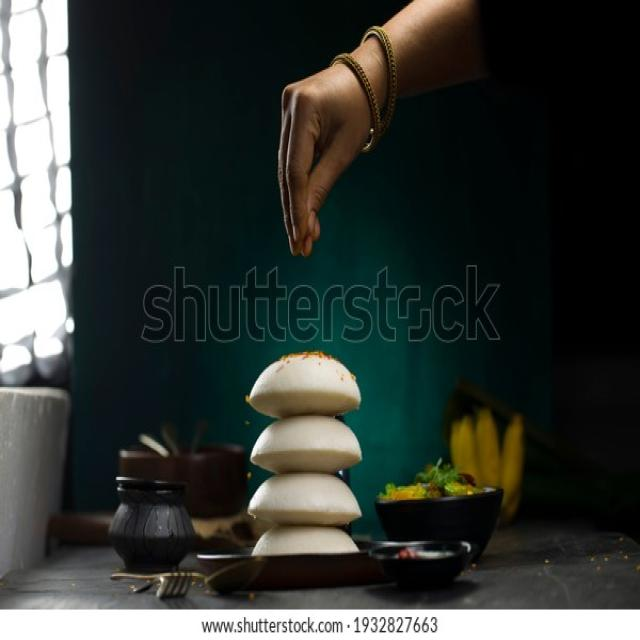IDLI: (246, 352, 361, 418), (247, 472, 361, 529), (252, 416, 361, 474), (253, 526, 358, 555)
